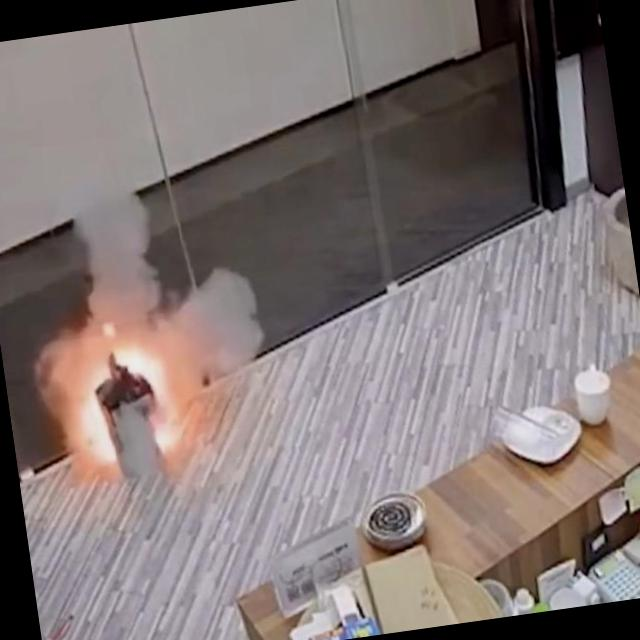fire: (62, 338, 183, 478)
smoke: (36, 181, 194, 342)
